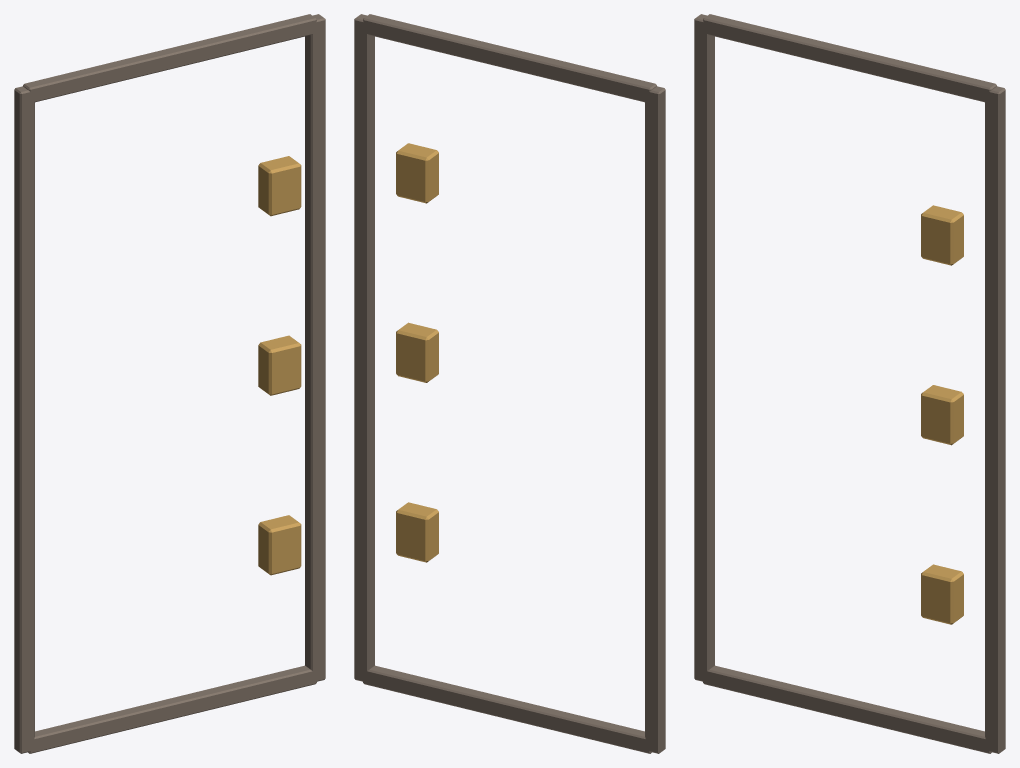
File: three_part_door_lock.glb
3 views of the same model, side by side, from view 1: azimuth 30°, elevation 25°; view 2: azimuth 150°, elevation 25°; view 3: azimuth 330°, elevation 25° (orthographic).
Visible parts, largest first — view 1: SealRail, SealRail_001, Seal_001, Seal, Lock, Lock_002, Lock_001; view 2: SealRail, SealRail_001, Seal_001, Seal, Lock, Lock_001, Lock_002; view 3: SealRail_001, SealRail, Seal_001, Seal, Lock_002, Lock, Lock_001.
Boxes of the visible parts, x1=… form: SealRail: x1=14, y1=86, x2=34, y2=753; SealRail_001: x1=305, y1=14, x2=325, y2=681; Seal_001: x1=23, y1=14, x2=316, y2=102; Seal: x1=28, y1=665, x2=316, y2=753; Lock: x1=258, y1=515, x2=301, y2=575; Lock_002: x1=258, y1=156, x2=301, y2=216; Lock_001: x1=258, y1=335, x2=301, y2=395; SealRail: x1=645, y1=86, x2=665, y2=753; SealRail_001: x1=354, y1=14, x2=374, y2=681; Seal_001: x1=363, y1=14, x2=656, y2=102; Seal: x1=363, y1=665, x2=651, y2=753; Lock: x1=396, y1=502, x2=438, y2=562; Lock_001: x1=396, y1=322, x2=438, y2=382; Lock_002: x1=396, y1=143, x2=438, y2=203; SealRail_001: x1=985, y1=86, x2=1005, y2=753; SealRail: x1=694, y1=14, x2=714, y2=681; Seal_001: x1=703, y1=14, x2=996, y2=102; Seal: x1=703, y1=665, x2=991, y2=753; Lock_002: x1=921, y1=205, x2=963, y2=265; Lock: x1=921, y1=564, x2=963, y2=624; Lock_001: x1=921, y1=385, x2=963, y2=445.
Size of the model in its own units: 1.11 by 2.31 by 0.1175.
